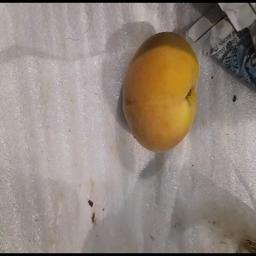Peach Fresh: (117, 27, 204, 156)
